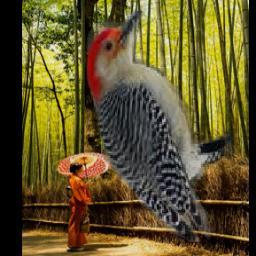Woodpecker: (87, 11, 234, 242)
